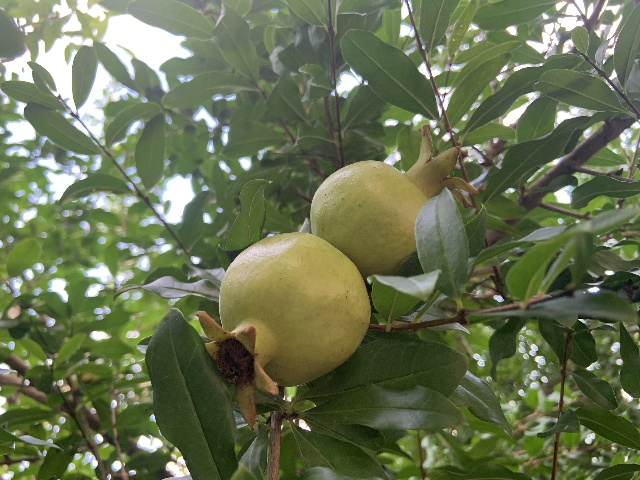mid-growth: (194, 231, 370, 430), (310, 120, 476, 279)
